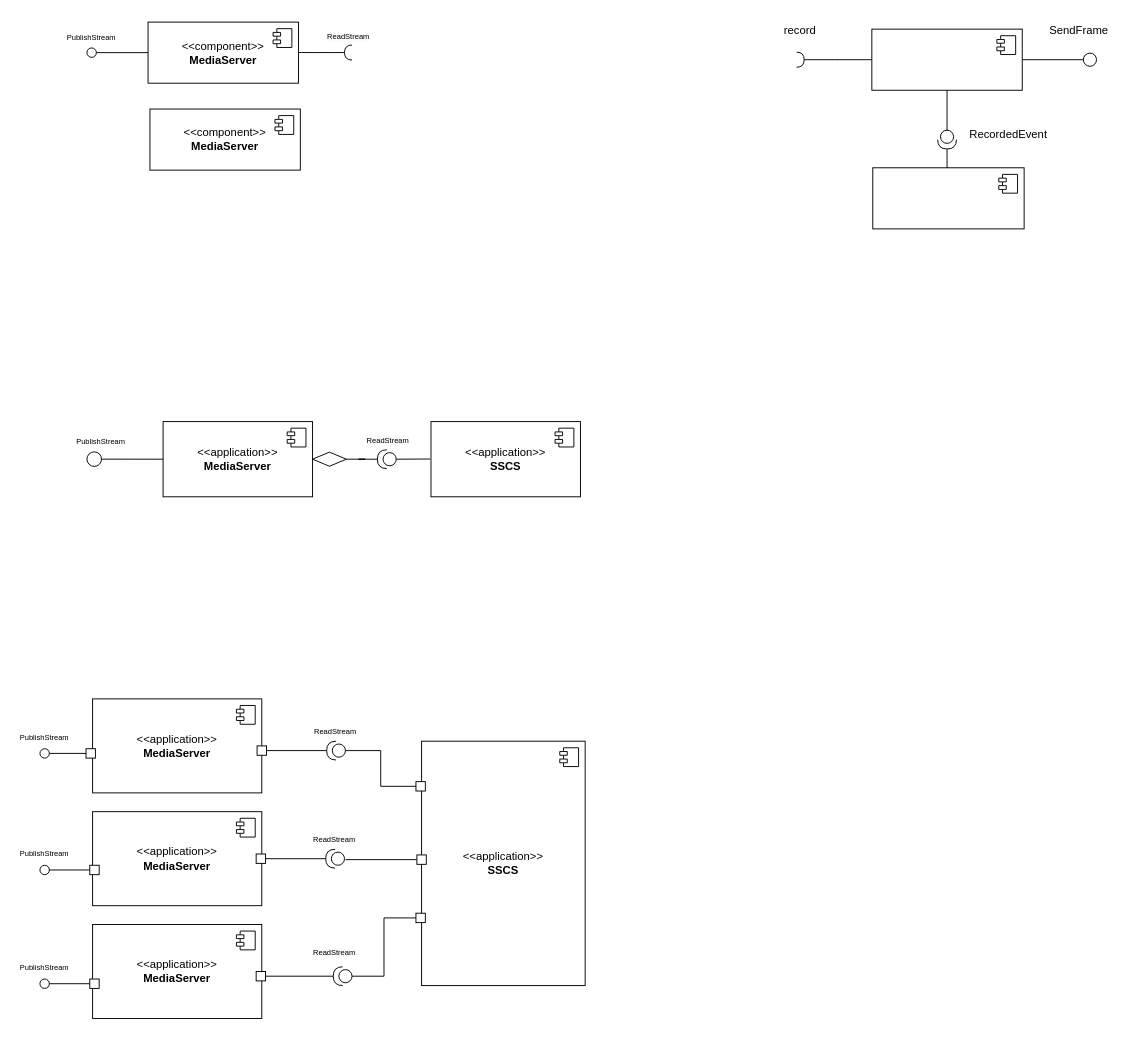
Image size: 1136x1041. Some labels were removed from this diagram. Here are the shapes that lost their labels. From the top down, the centre of each, then its label:
(946,59): <<component>> Recorder
(948,198): <<component>> Indexer
